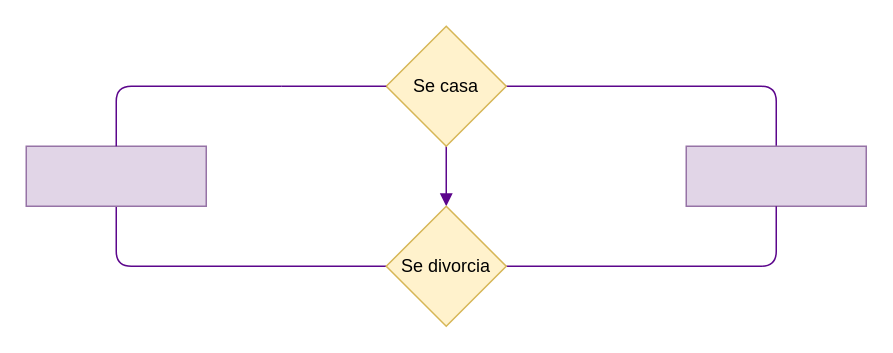
Some shapes in this 893 by 353 pixel diagram are drawn without their labels. Here are the shapes that lost their labels. From the top down, the centre of each, then its label:
At [115,175]: "Hombre".
At [775,175]: "Mujer".
